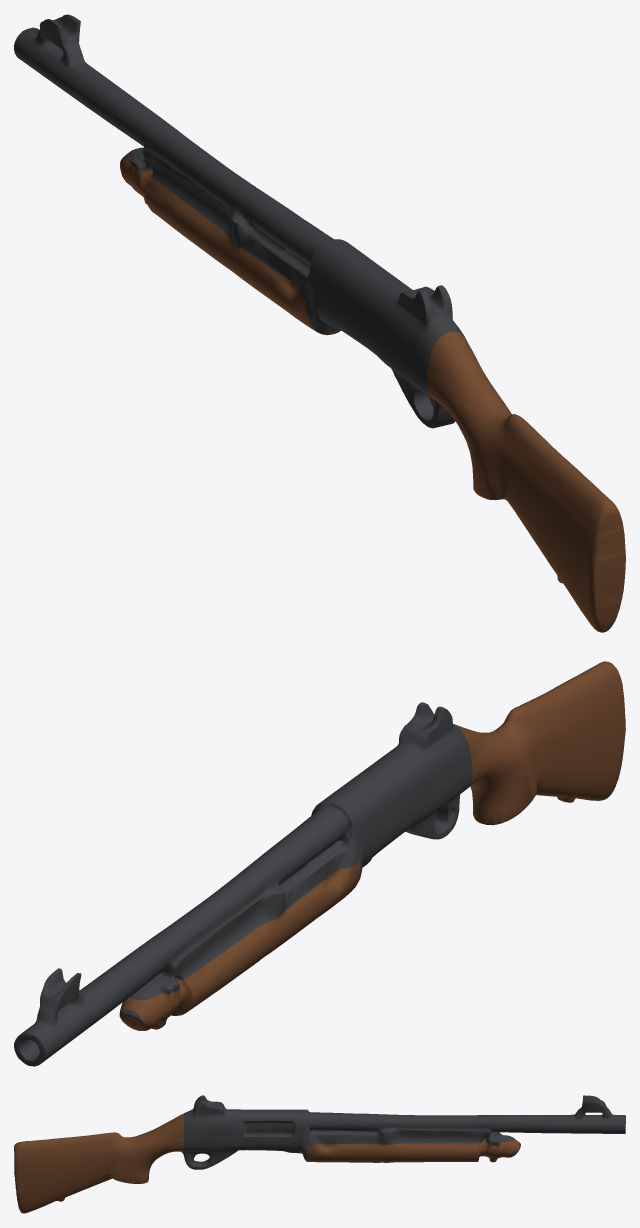
Rendered from pompa.glb.
The picture shows the model from 3 angles, top to bottom: view 1: azimuth 30°, elevation 25°; view 2: azimuth 150°, elevation 25°; view 3: azimuth 270°, elevation 25°; orthographic projection. The views are drawn at different scales.
Parts seen in each view (by area): view 1: govde; view 2: govde; view 3: govde.
Part boxes in pixels (x1=…): govde: x1=14, y1=14, x2=625, y2=632; govde: x1=14, y1=661, x2=625, y2=1066; govde: x1=14, y1=1095, x2=625, y2=1213.
Bounding box in the file's own units: 0.0539 × 0.2074 × 0.9994.
